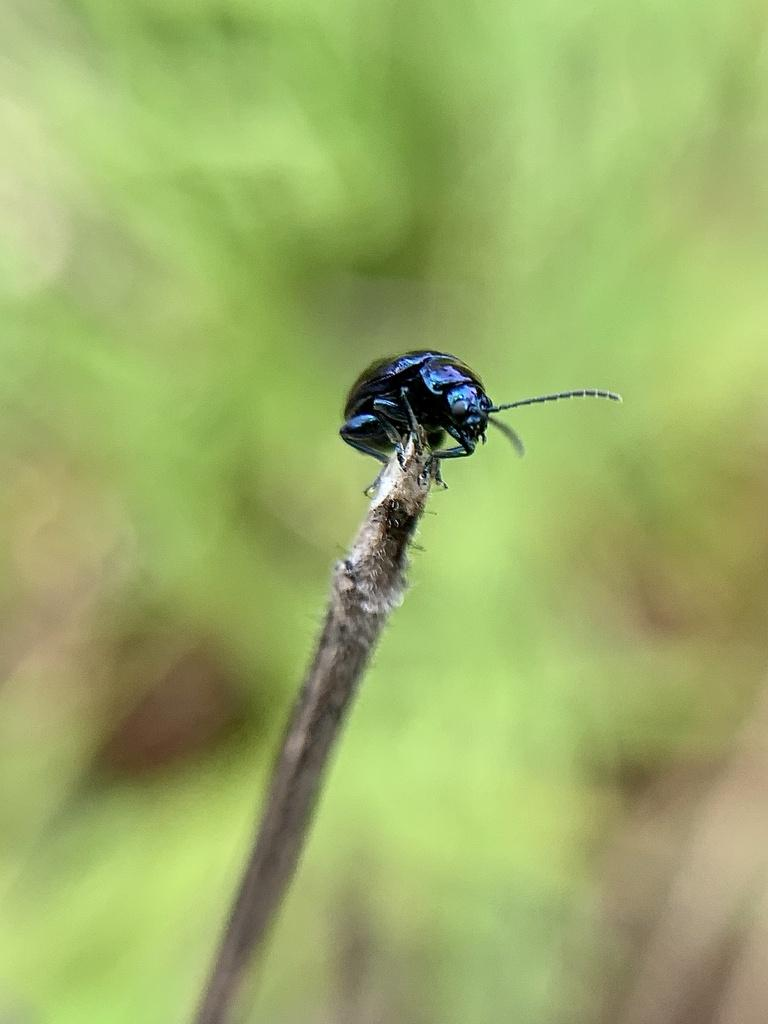flea_beetle: (306, 296, 646, 530)
